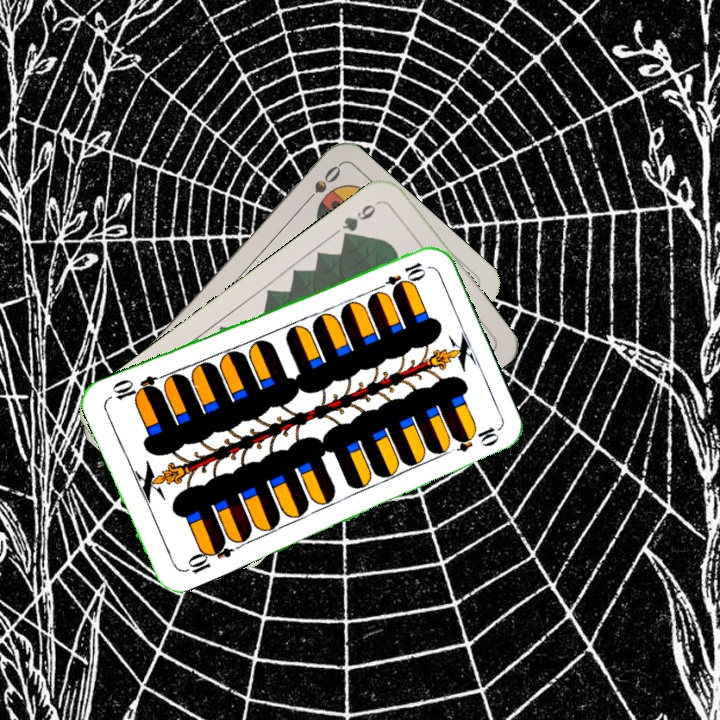E10: (177, 536, 234, 576), (372, 258, 429, 297)
G9: (338, 196, 384, 243)
SO: (298, 161, 344, 209)
